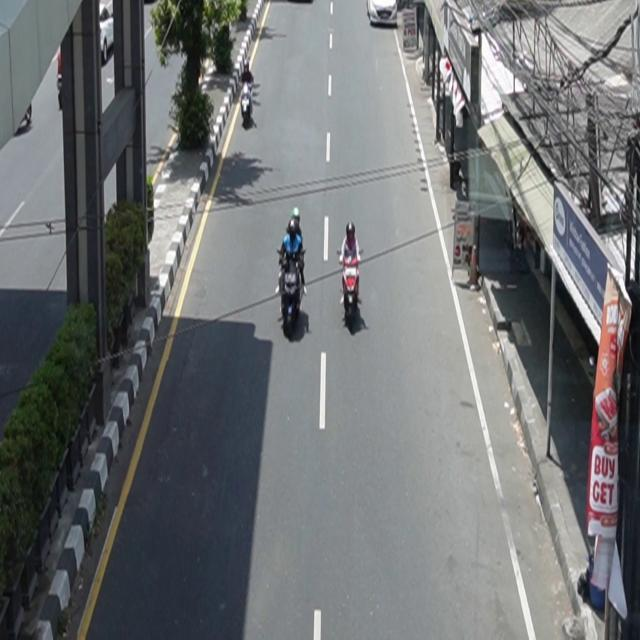car: (367, 1, 399, 28)
